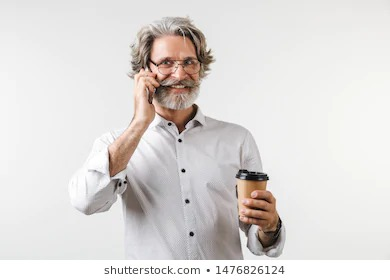F_shirt: (60, 102, 296, 259)
